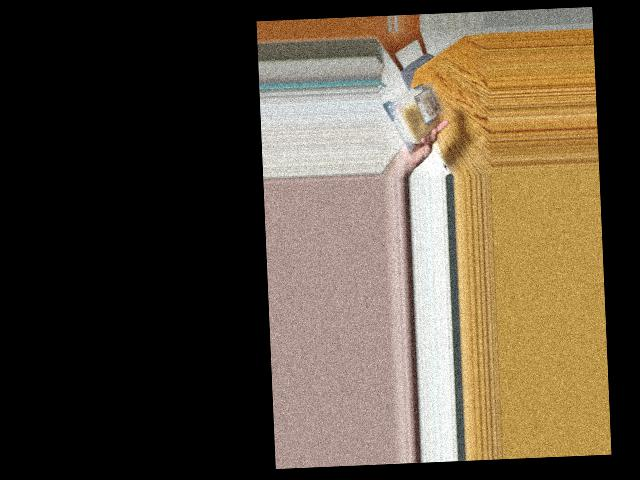cheese: (389, 78, 446, 148)
